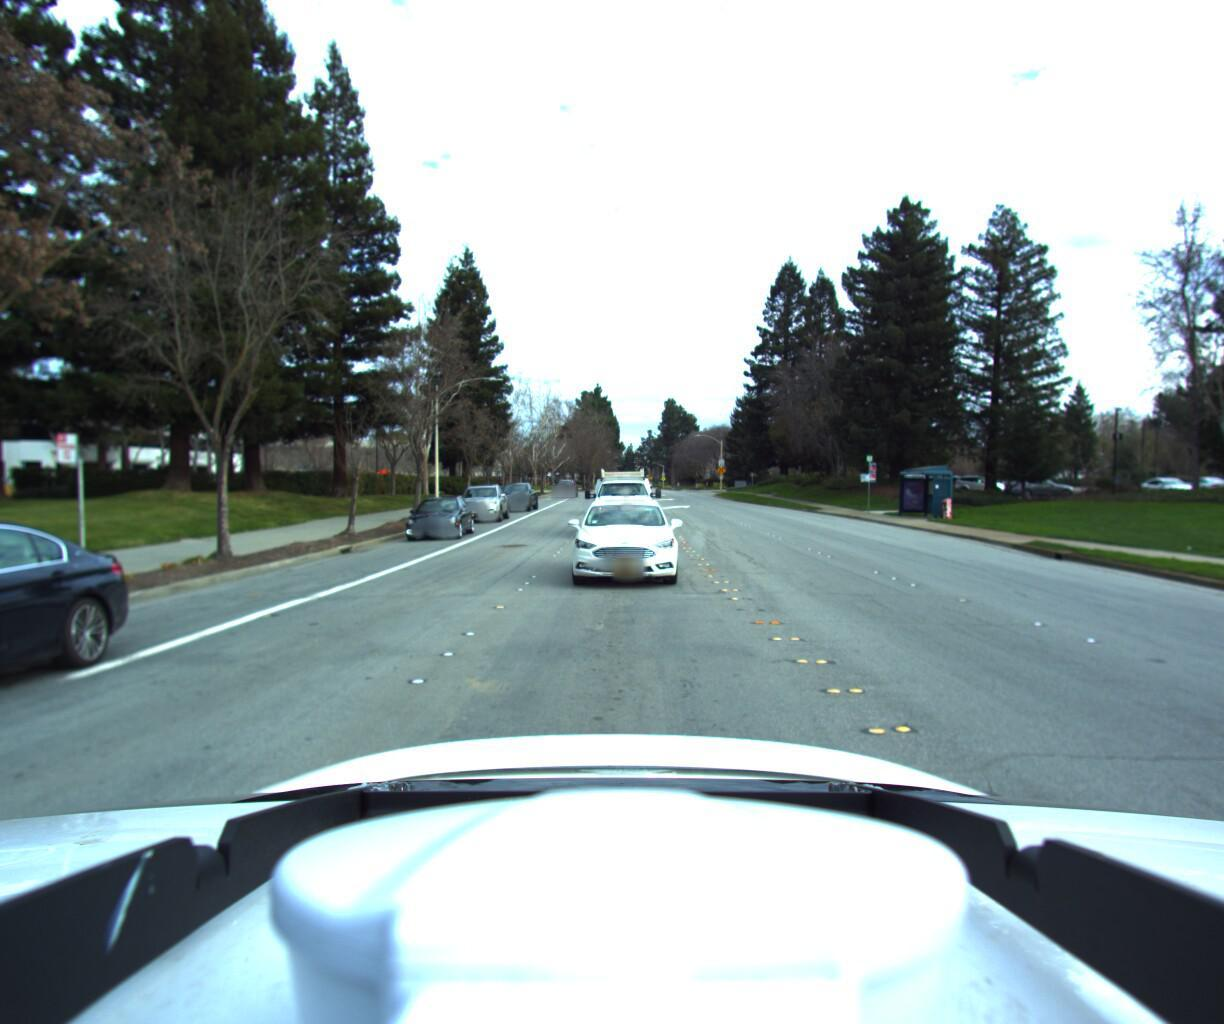car: (564, 494, 680, 591), (582, 458, 660, 541), (402, 495, 473, 541), (455, 483, 509, 521), (494, 480, 537, 511), (551, 483, 576, 503)
